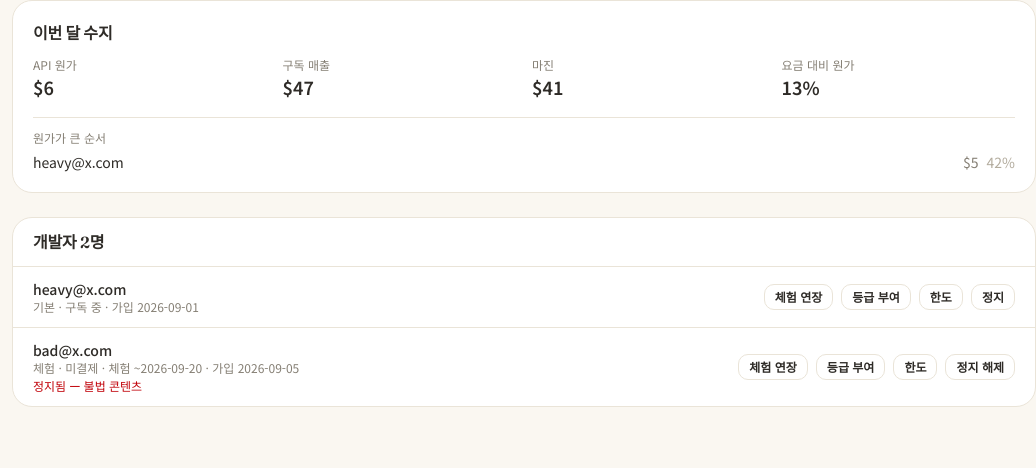
[P8-2][P8-3] AdminConsole › 실패하면 이유를 그대로 알린다
This screenshot has width=1036, height=468.
Click the button with aria-label "bad@x.com 정지 해제". click: (980, 367)
box: [946,354,1015,380]
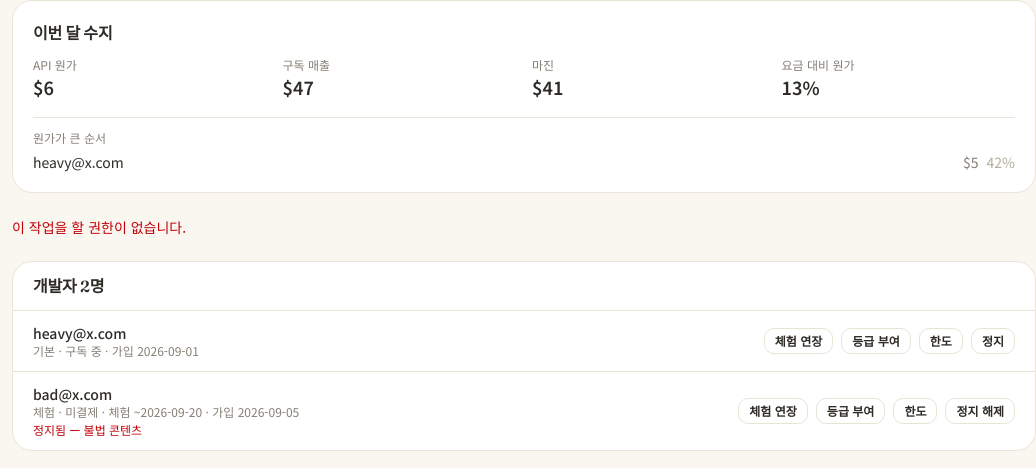
Check: the message shows "권한이 없습니다", box [12,217,186,237]
